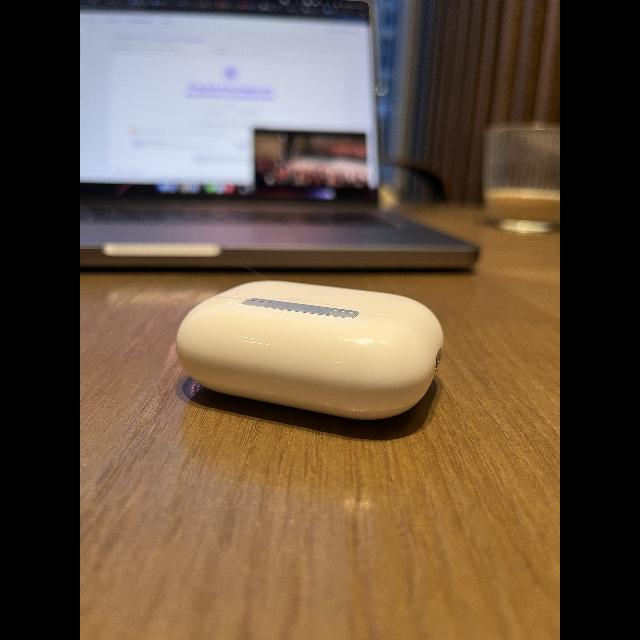AirPods Pro: (172, 277, 444, 439)
